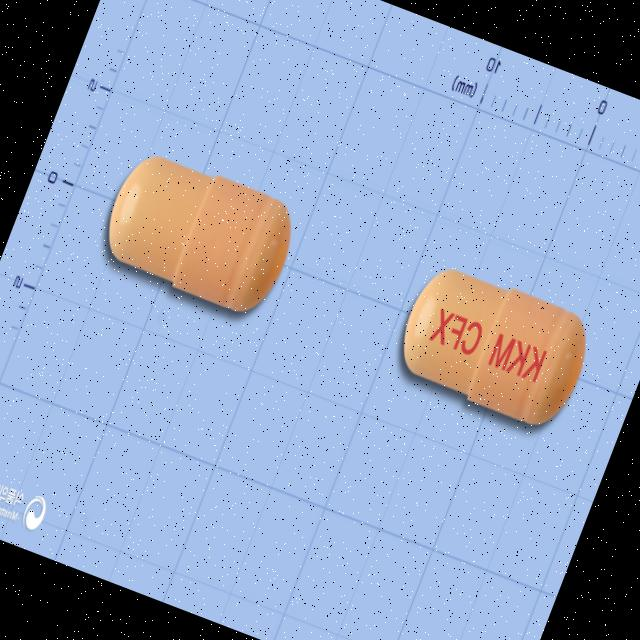Cefick Cap: (381, 250, 604, 444), (85, 137, 308, 331)
